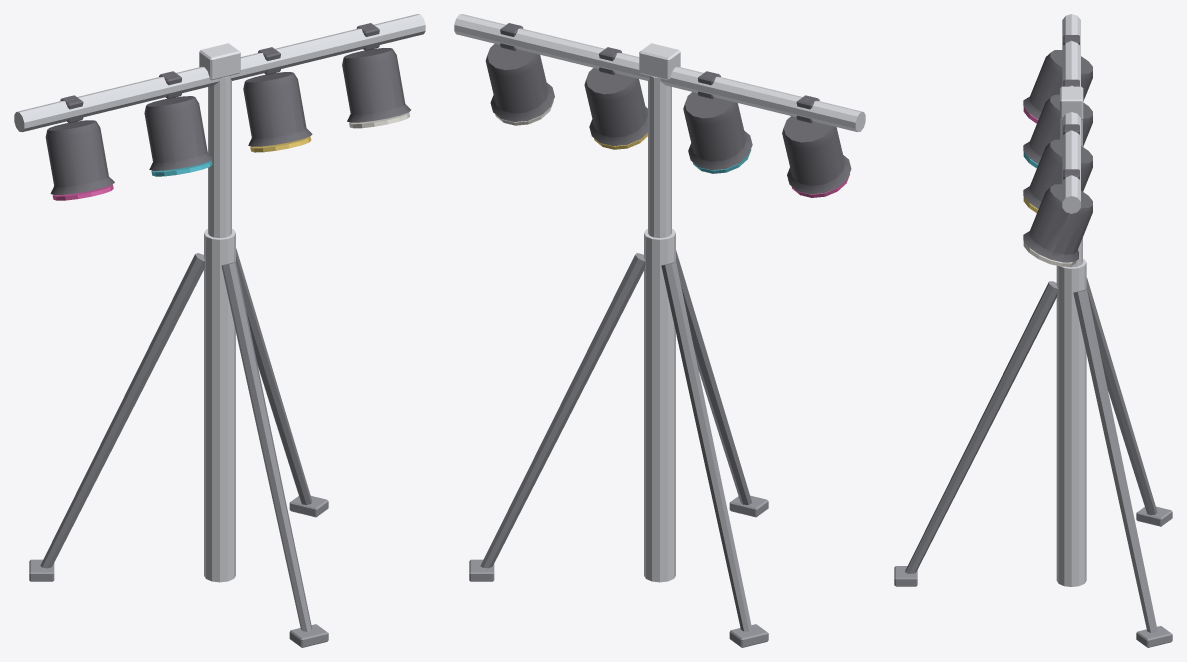
The model's file is nightclub-and-dj-booth-light-bar-on-stand-c9bd7b37__34110.glb.
3 views of the same model, side by side, from view 1: azimuth 30°, elevation 25°; view 2: azimuth 150°, elevation 25°; view 3: azimuth 270°, elevation 25° (orthographic). The views are drawn at different scales.
Parts seen in each view (by area): view 1: light-bar-on-stand; view 2: light-bar-on-stand; view 3: light-bar-on-stand.
Boxes of the visible parts, left/top/right/bottom form: light-bar-on-stand: left=14, top=14, right=425, bottom=647; light-bar-on-stand: left=454, top=14, right=865, bottom=647; light-bar-on-stand: left=894, top=14, right=1172, bottom=647.
Bounding box in the file's own units: 1.3 × 1.63 × 0.8395.
